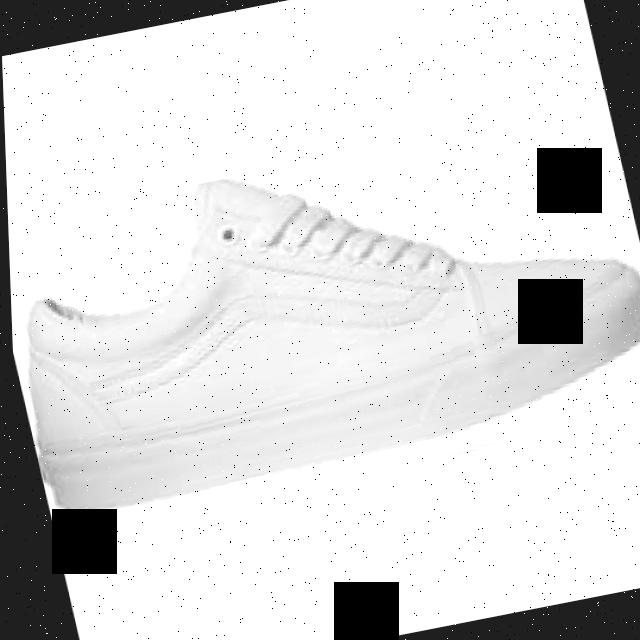shoe: (3, 104, 640, 554)
